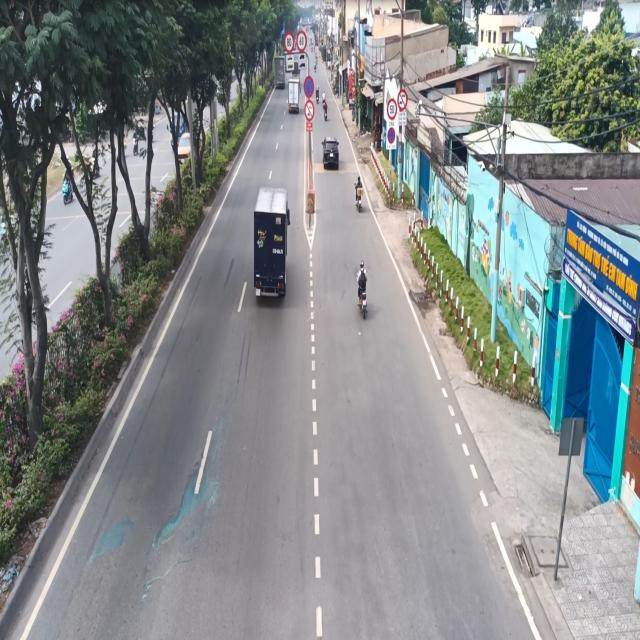car: (320, 127, 343, 178)
motor: (352, 256, 371, 328), (351, 170, 364, 215)
truck: (248, 170, 292, 304)
